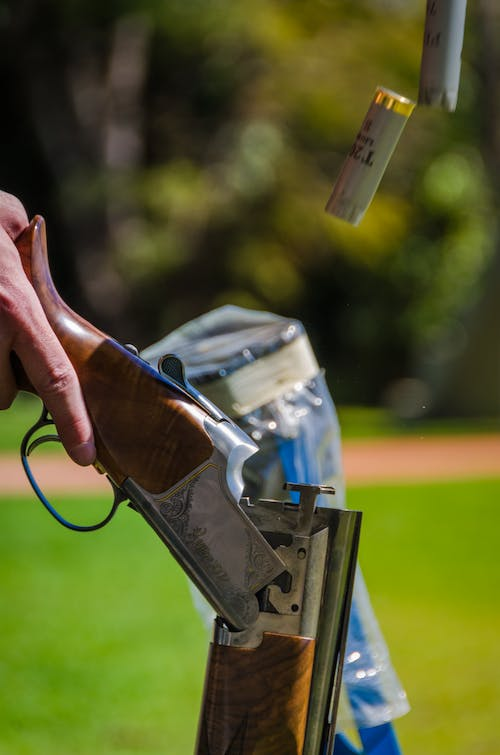gun: (9, 205, 367, 755)
